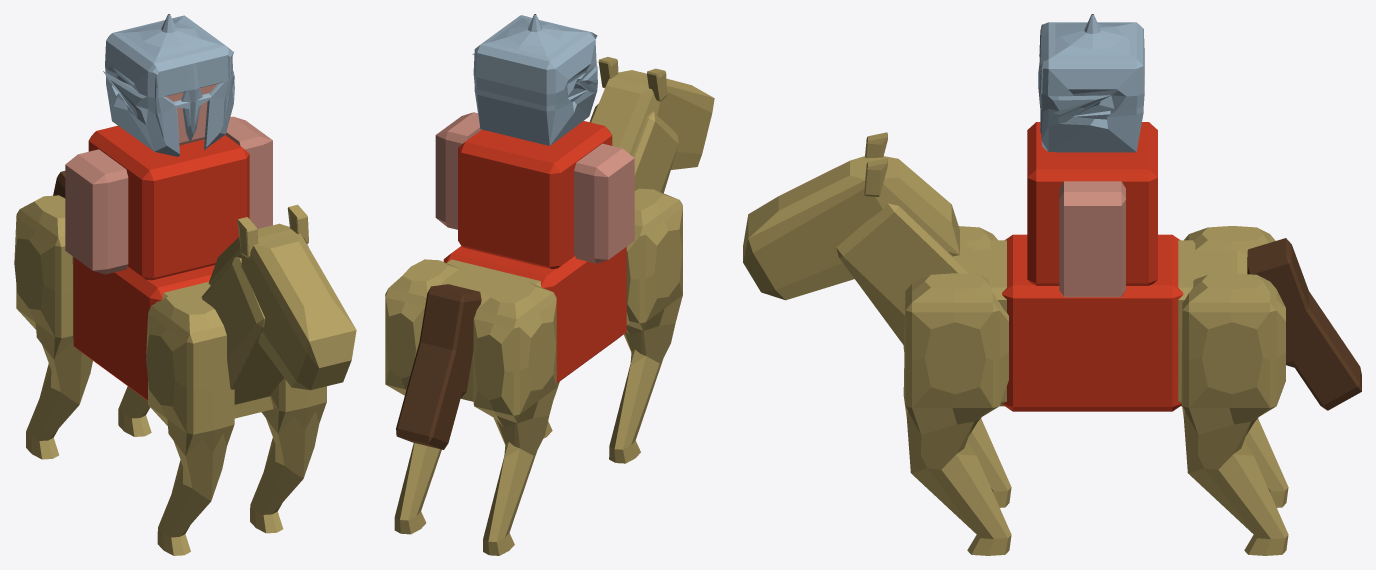
Rendered from MountedKnight.fbx.
3 views of the same model, side by side, from view 1: azimuth 30°, elevation 25°; view 2: azimuth 150°, elevation 25°; view 3: azimuth 270°, elevation 25° (orthographic). The views are drawn at different scales.
Visible parts, largest first — view 1: Body, Horse.005, Helmet, Horse.007, Horse.003, Horse.001, ArmR, Horse.004, Horse.006, ArmL, Horse.002, Horse (+3 smaller); view 2: Body, Horse.003, Helmet, Horse.005, Horse.010, Horse.001, Horse.002, Horse.007, ArmR, ArmL, Horse.006, Horse (+2 smaller); view 3: Horse.001, Horse.002, Horse.004, Horse.007, Helmet, Body, Horse.006, Horse.010, ArmL, Horse, Horse.003, Horse.005.
Boxes of the visible parts, bbox=[...] form: Body: bbox=[88, 125, 249, 280]; Horse.005: bbox=[146, 291, 234, 555]; Helmet: bbox=[103, 14, 234, 156]; Horse.007: bbox=[208, 223, 356, 390]; Horse.003: bbox=[14, 195, 92, 459]; Horse.001: bbox=[73, 257, 214, 400]; ArmR: bbox=[65, 149, 128, 274]; Horse.004: bbox=[250, 378, 326, 533]; Horse.006: bbox=[201, 257, 283, 404]; ArmL: bbox=[225, 116, 272, 228]; Horse.002: bbox=[118, 386, 151, 436]; Horse: bbox=[72, 256, 273, 418]; Body: bbox=[458, 121, 612, 268]; Horse.003: bbox=[473, 281, 556, 555]; Helmet: bbox=[472, 14, 597, 145]; Horse.005: bbox=[609, 188, 682, 463]; Horse.010: bbox=[396, 284, 481, 449]; Horse.001: bbox=[443, 246, 626, 383]; Horse.002: bbox=[385, 259, 459, 534]; Horse.007: bbox=[591, 70, 714, 169]; ArmR: bbox=[574, 143, 634, 263]; ArmL: bbox=[435, 112, 481, 229]; Horse.006: bbox=[589, 104, 678, 193]; Horse: bbox=[441, 259, 629, 401]; Horse.001: bbox=[1002, 234, 1183, 411]; Horse.002: bbox=[1181, 273, 1288, 555]; Horse.004: bbox=[903, 273, 1011, 555]; Horse.007: bbox=[743, 156, 959, 300]; Helmet: bbox=[1038, 14, 1144, 152]; Body: bbox=[1027, 122, 1157, 285]; Horse.006: bbox=[836, 203, 973, 346]; Horse.010: bbox=[1247, 238, 1361, 410]; ArmL: bbox=[1059, 181, 1125, 297]; Horse: bbox=[973, 240, 1247, 406]; Horse.003: bbox=[1184, 226, 1288, 507]; Horse.005: bbox=[903, 226, 1011, 507].
Size of the model in its own units: 335 by 863 by 947.
